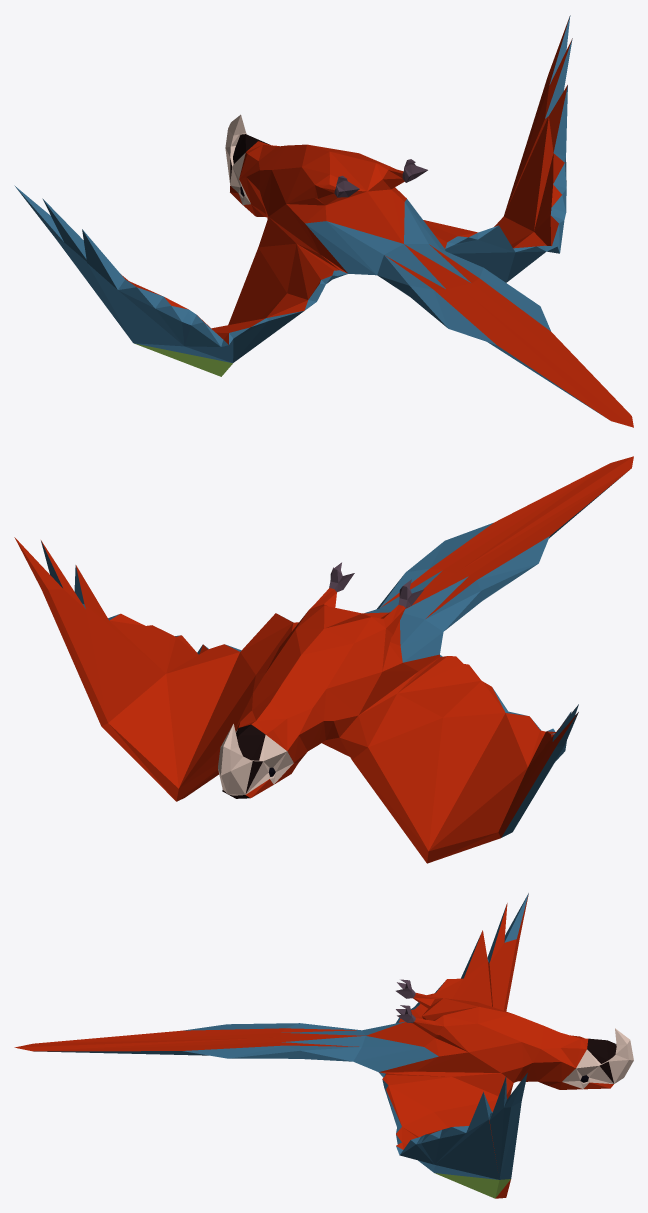
The model's file is Egg.glb.
3 renders of one model, top to bottom at view 1: azimuth 30°, elevation 25°; view 2: azimuth 150°, elevation 25°; view 3: azimuth 270°, elevation 25°, orthographic. The views are drawn at different scales.
Visible parts, largest first — view 1: Object_0d; view 2: Object_0d; view 3: Object_0d.
Part boxes in pixels (<box>): Object_0d: <box>14,15,633,427</box>; Object_0d: <box>14,456,633,863</box>; Object_0d: <box>14,893,633,1198</box>.
Bounding box in the file's own units: 5.6 × 2.37 × 7.08.
